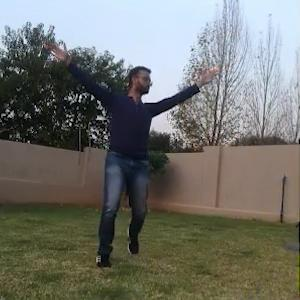takeoff: (36, 26, 232, 271)
